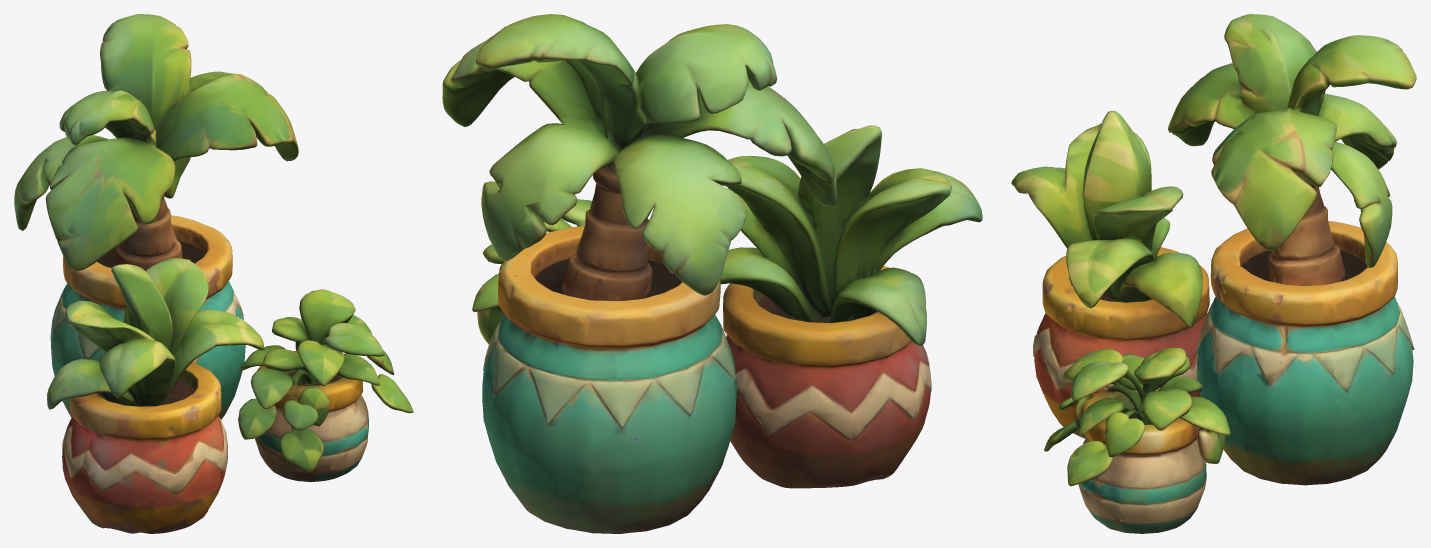
Rendered from potted_plants.glb.
3 renders of one model, left to right at view 1: azimuth 30°, elevation 25°; view 2: azimuth 150°, elevation 25°; view 3: azimuth 270°, elevation 25°, orthographic. The views are drawn at different scales.
Visible parts, largest first — view 1: tripo_part_0, tripo_part_1, tripo_part_4, tripo_part_2, tripo_part_8, tripo_part_3, tripo_part_6, tripo_part_5, tripo_part_9, tripo_part_7, tripo_part_10, tripo_part_11 (+3 smaller); view 2: tripo_part_0, tripo_part_3, tripo_part_1, tripo_part_4, tripo_part_5, tripo_part_7, tripo_part_8, tripo_part_9, tripo_part_2; view 3: tripo_part_0, tripo_part_3, tripo_part_1, tripo_part_5, tripo_part_2, tripo_part_6, tripo_part_8, tripo_part_4, tripo_part_9, tripo_part_7, tripo_part_10, tripo_part_12.
Part boxes in pixels (box(x1,y1,x2,y2)): tripo_part_0: box(45, 14, 298, 271); tripo_part_1: box(47, 258, 264, 409); tripo_part_4: box(62, 415, 227, 533); tripo_part_2: box(239, 289, 413, 413); tripo_part_8: box(69, 362, 221, 440); tripo_part_3: box(50, 281, 245, 419); tripo_part_6: box(255, 395, 368, 482); tripo_part_5: box(63, 215, 232, 308); tripo_part_9: box(114, 195, 181, 270); tripo_part_7: box(14, 135, 108, 230); tripo_part_10: box(257, 350, 362, 411); tripo_part_11: box(279, 395, 323, 472); tripo_part_0: box(442, 14, 837, 260); tripo_part_3: box(482, 314, 736, 533); tripo_part_1: box(720, 125, 982, 345); tripo_part_4: box(726, 335, 931, 488); tripo_part_5: box(498, 226, 720, 348); tripo_part_7: box(614, 134, 745, 295); tripo_part_8: box(723, 266, 912, 367); tripo_part_9: box(565, 162, 652, 300); tripo_part_2: box(472, 199, 591, 344); tripo_part_0: box(1168, 14, 1416, 267); tripo_part_3: box(1196, 296, 1414, 485); tripo_part_1: box(1011, 110, 1202, 328); tripo_part_5: box(1210, 220, 1397, 327); tripo_part_2: box(1061, 347, 1230, 486); tripo_part_6: box(1078, 437, 1206, 533); tripo_part_8: box(1042, 247, 1209, 340); tripo_part_4: box(1033, 313, 1207, 438); tripo_part_9: box(1267, 172, 1343, 282); tripo_part_7: box(1318, 93, 1396, 169); tripo_part_10: box(1082, 387, 1199, 455); tripo_part_12: box(1105, 412, 1145, 457).
Size of the model in its own units: 0.8809 by 0.9804 by 0.8325.
Materials: 1 (1 with a texture image).
